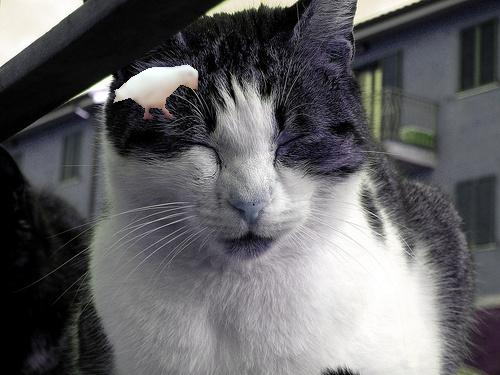tampered: (114, 65, 198, 119)
